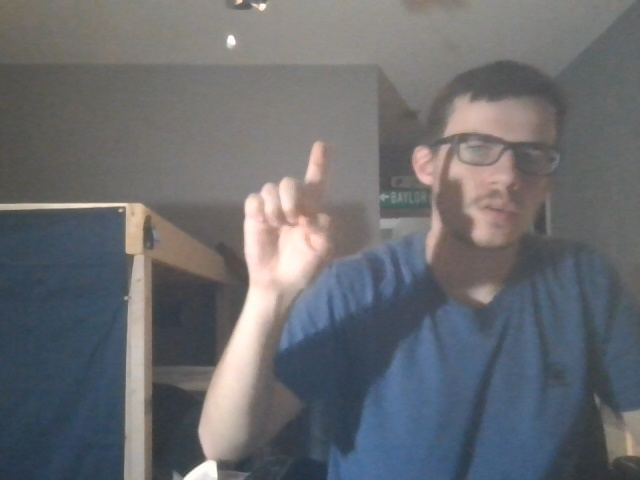D: (227, 130, 348, 298)
